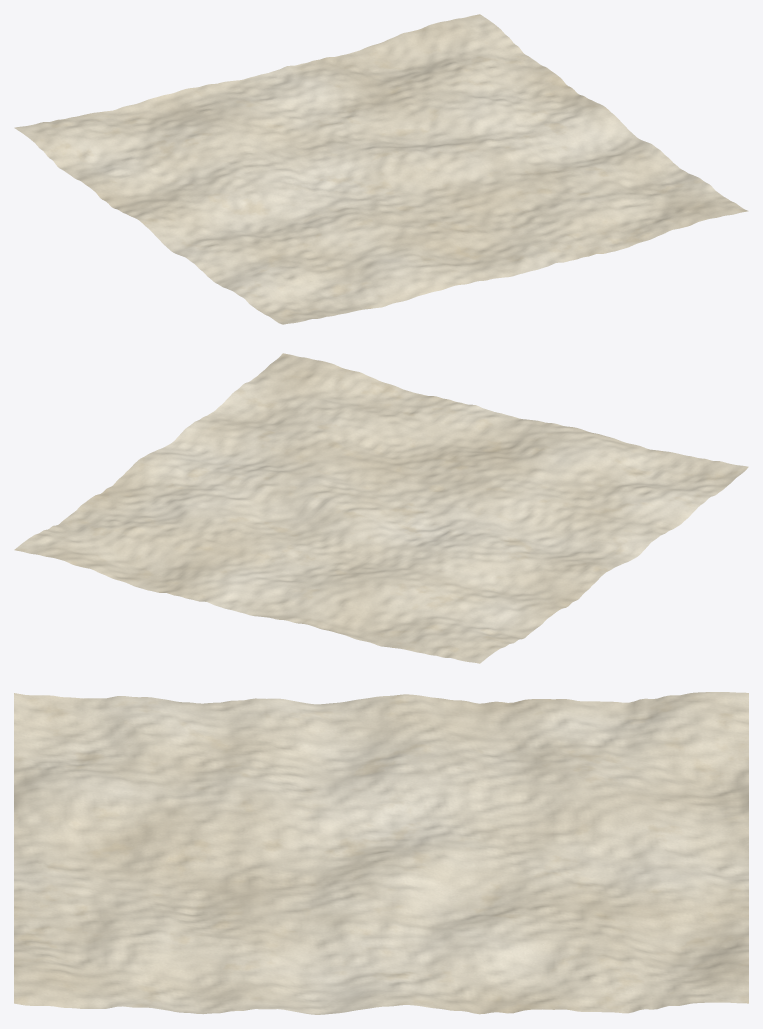
The model's file is BeachTerrain_Flat.gltf.
3 renders of one model, top to bottom at view 1: azimuth 30°, elevation 25°; view 2: azimuth 150°, elevation 25°; view 3: azimuth 270°, elevation 25°, orthographic. The views are drawn at different scales.
Visible parts, largest first — view 1: BeachTerrain_Flat; view 2: BeachTerrain_Flat; view 3: BeachTerrain_Flat.
Part boxes in pixels (x1,y1,x2,y2): BeachTerrain_Flat: [14, 14, 748, 324]; BeachTerrain_Flat: [14, 353, 748, 663]; BeachTerrain_Flat: [14, 692, 748, 1014].
Size of the model in its own units: 40 by 1.21 by 40.
Materials: 1 (1 with a texture image).
